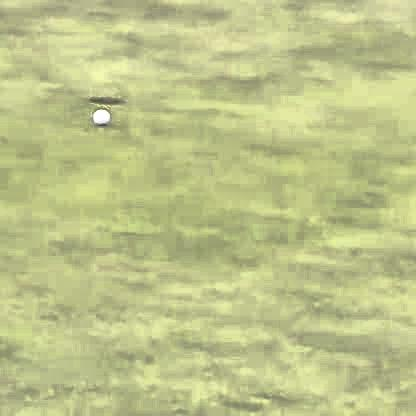golfball: (90, 106, 108, 122)
